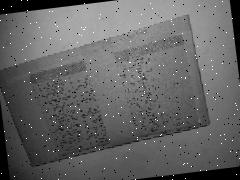paper: (0, 13, 213, 169)
